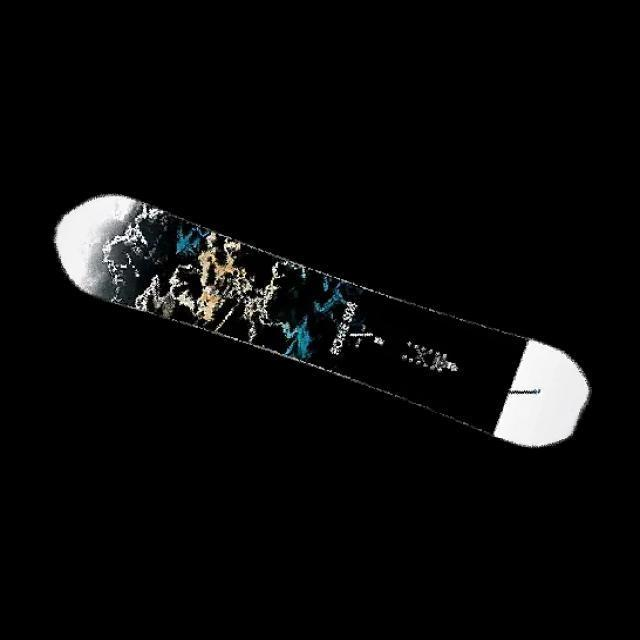Snowboard: (53, 191, 591, 449)
